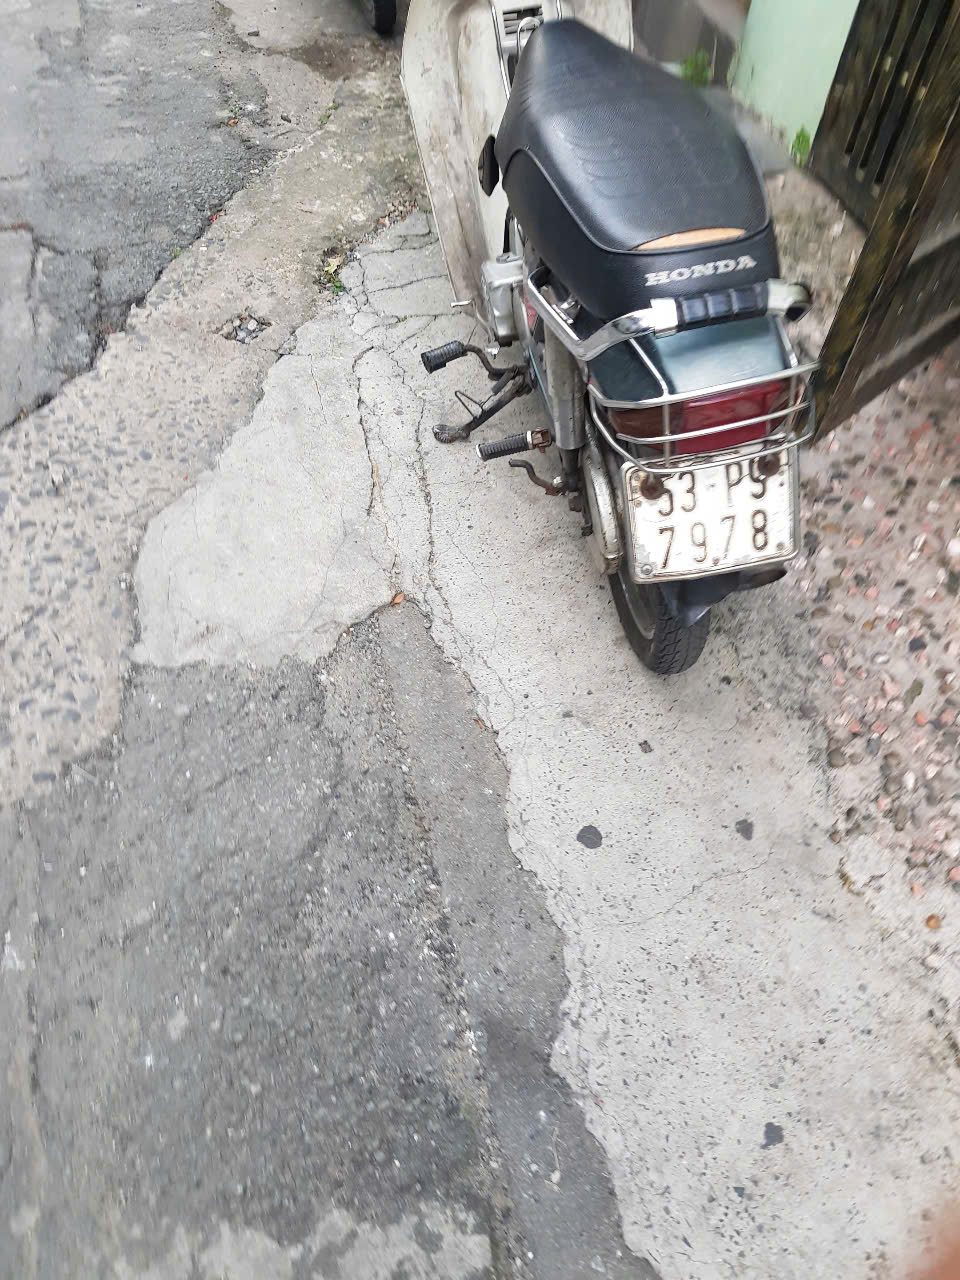bien_so: (632, 444, 799, 583)
